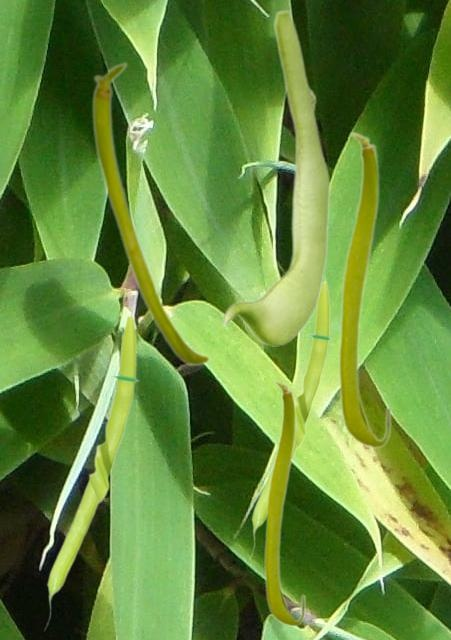french_bean: (221, 8, 329, 345), (91, 61, 210, 366), (43, 307, 139, 631), (248, 274, 332, 560), (337, 130, 391, 448), (263, 379, 305, 626)
